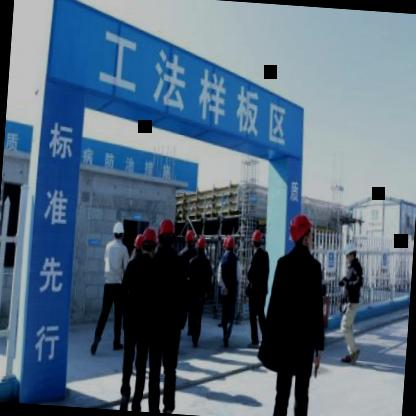helmet: (288, 212, 316, 252), (155, 216, 176, 250), (140, 226, 158, 254), (110, 221, 126, 244), (344, 240, 359, 264), (223, 233, 238, 252), (132, 232, 144, 252), (184, 228, 196, 247), (252, 230, 263, 250), (195, 237, 206, 252)
